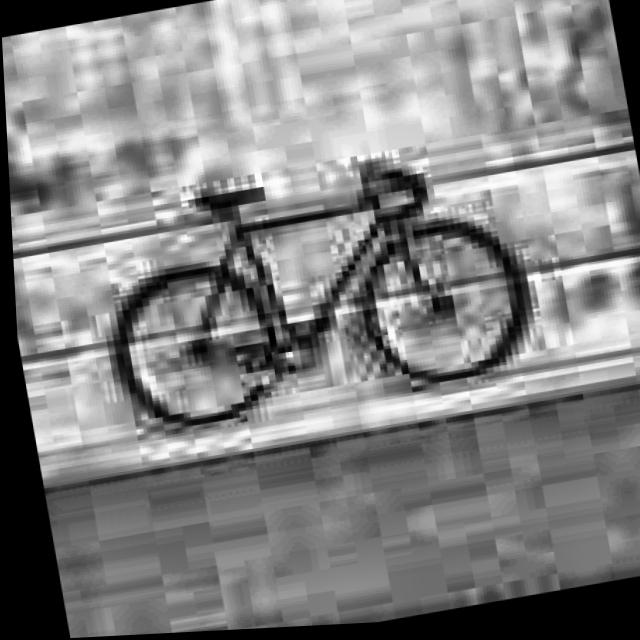motorcycle: (69, 123, 550, 452)
